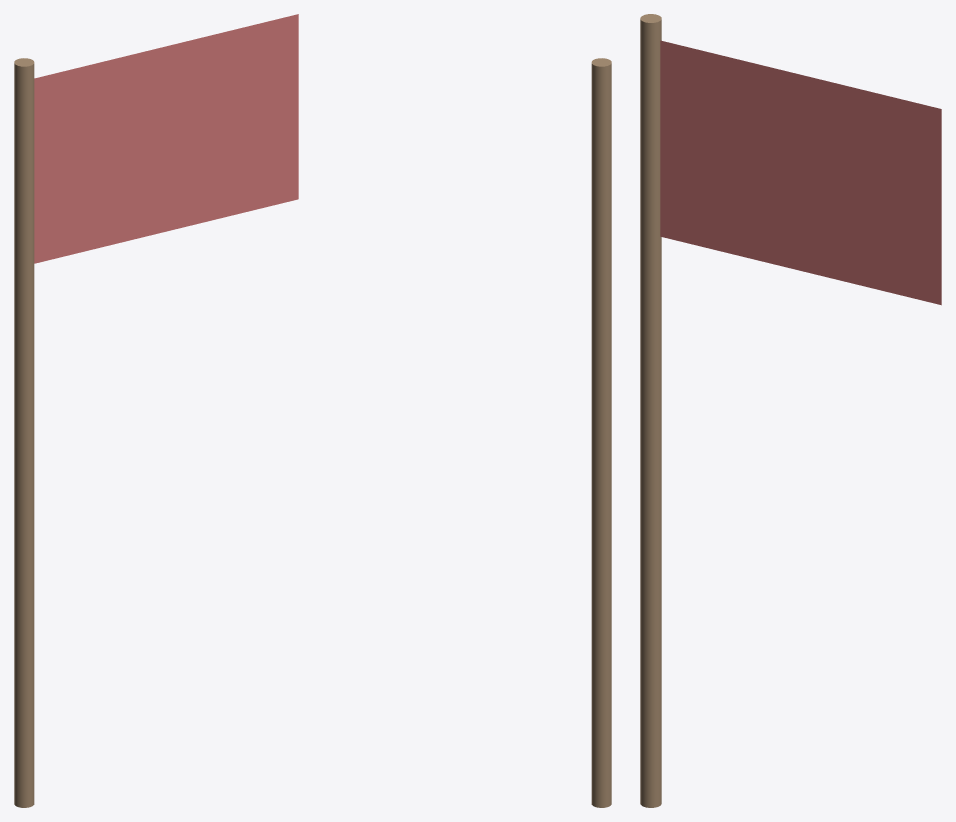
Rendered from source.gltf.
3 views of the same model, side by side, from view 1: azimuth 30°, elevation 25°; view 2: azimuth 150°, elevation 25°; view 3: azimuth 330°, elevation 25° (orthographic). The views are drawn at different scales.
Visible parts, largest first — view 1: flag, pole; view 2: pole; view 3: flag, pole.
Boxes of the visible parts, x1,y1,x2,y2 form: flag: (34,14,298,263); pole: (14,58,34,807); pole: (591,58,611,807); flag: (660,40,941,305); pole: (640,14,661,807).
Size of what is drawn, in the model's own units: 1.6 by 4 by 0.1.
